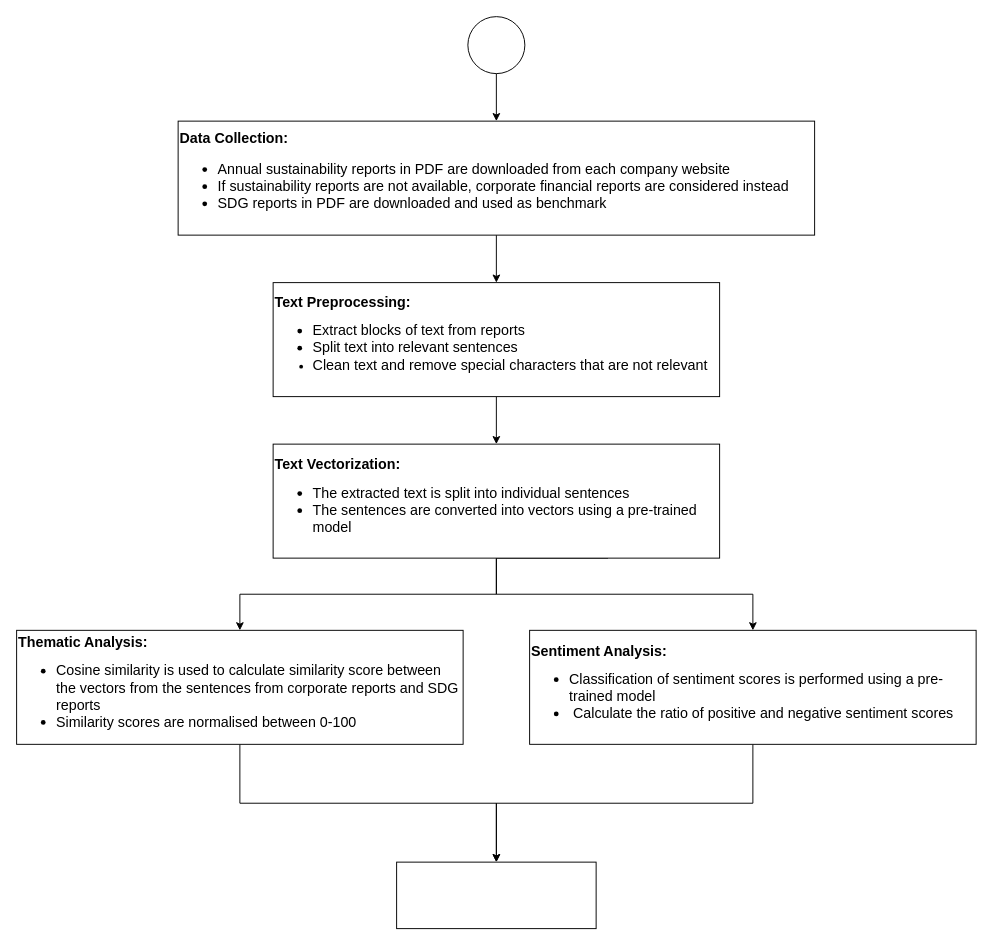
Some shapes in this 993 by 945 pixel diagram are drawn without their labels. The shapes that lost their labels are listed below. From the top down, each one's centre as x and y in pixels, then its label:
At [496,45]: "Start".
At [496,895]: "Visualisation: Aggregate multi-level groups".
